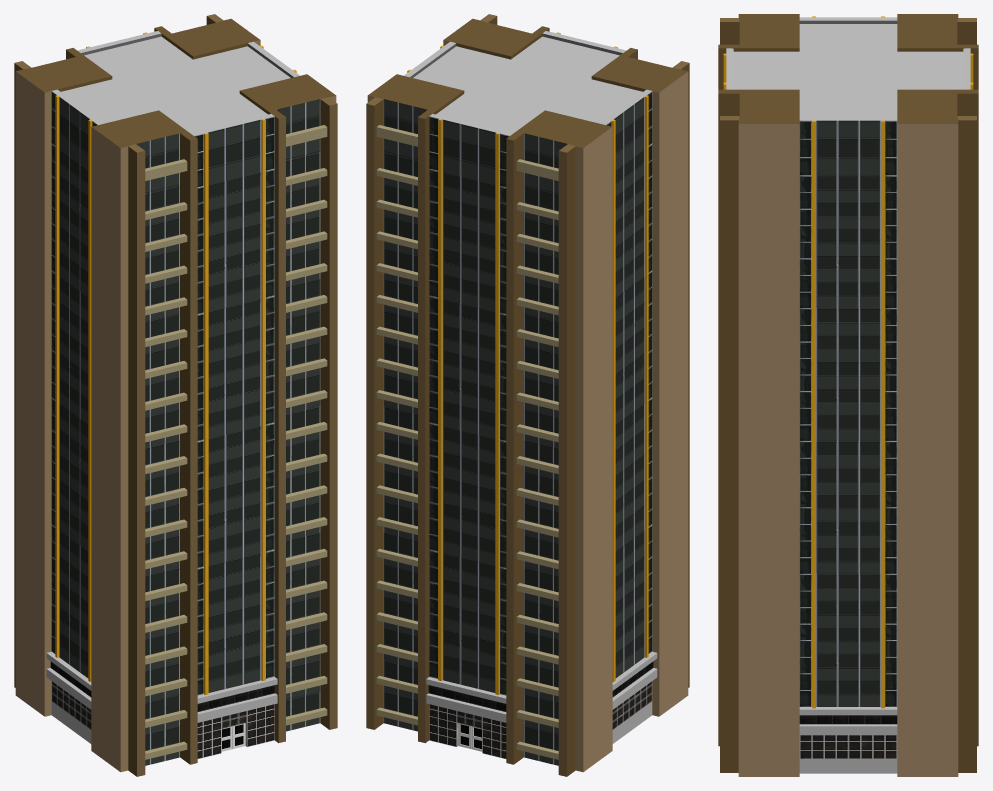
File: Tower-04.fbx
3 renders of one model, left to right at view 1: azimuth 30°, elevation 25°; view 2: azimuth 150°, elevation 25°; view 3: azimuth 270°, elevation 25°, orthographic. The views are drawn at different scales.
Visible parts, largest first — view 1: Building; view 2: Building; view 3: Building.
Boxes of the visible parts, x1=… form: Building: x1=14, y1=14, x2=337, y2=776; Building: x1=366, y1=14, x2=689, y2=776; Building: x1=718, y1=14, x2=978, y2=776.
Size of what is drawn, in the model's own units: 21.34 by 59 by 21.31.
